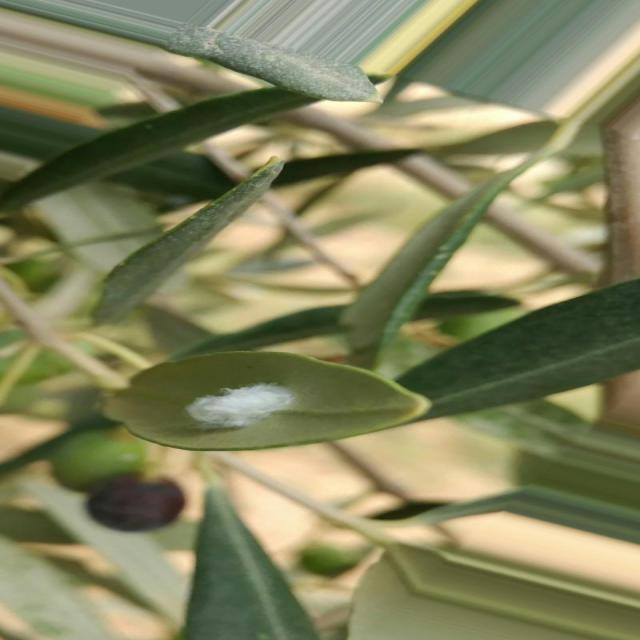Psyllid: (186, 383, 296, 431)
